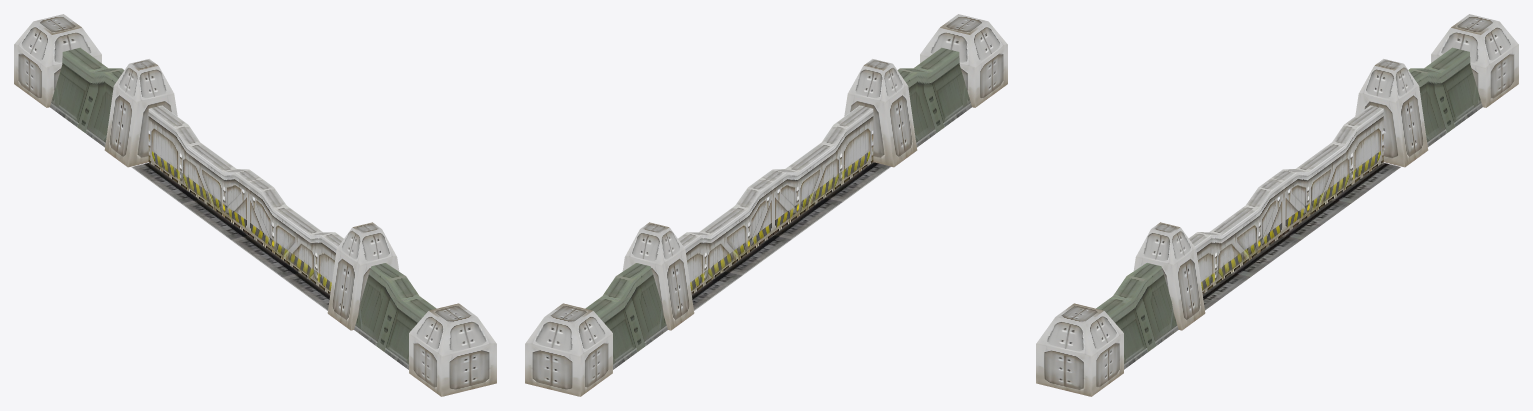
File: l_lightgate_hdtex.glb
3 views of the same model, side by side, from view 1: azimuth 30°, elevation 25°; view 2: azimuth 150°, elevation 25°; view 3: azimuth 330°, elevation 25° (orthographic).
Visible parts, largest first — view 1: L_LightGate, L_LightGateDoor, Gatefloor_PAB; view 2: L_LightGate, L_LightGateDoor, Gatefloor_PAB; view 3: L_LightGate, L_LightGateDoor, Gatefloor_PAB.
Part boxes in pixels (x1=…): L_LightGate: x1=14, y1=14, x2=496, y2=396; L_LightGateDoor: x1=148, y1=105, x2=343, y2=294; Gatefloor_PAB: x1=131, y1=162, x2=329, y2=310; L_LightGate: x1=525, y1=14, x2=1007, y2=396; L_LightGateDoor: x1=678, y1=105, x2=873, y2=294; Gatefloor_PAB: x1=692, y1=162, x2=890, y2=310; L_LightGate: x1=1036, y1=14, x2=1518, y2=396; L_LightGateDoor: x1=1189, y1=105, x2=1383, y2=294; Gatefloor_PAB: x1=1203, y1=162, x2=1400, y2=310.
Bounding box in the file's own units: 4.16 × 6.27 × 55.54.
1 material, 1 textured.
